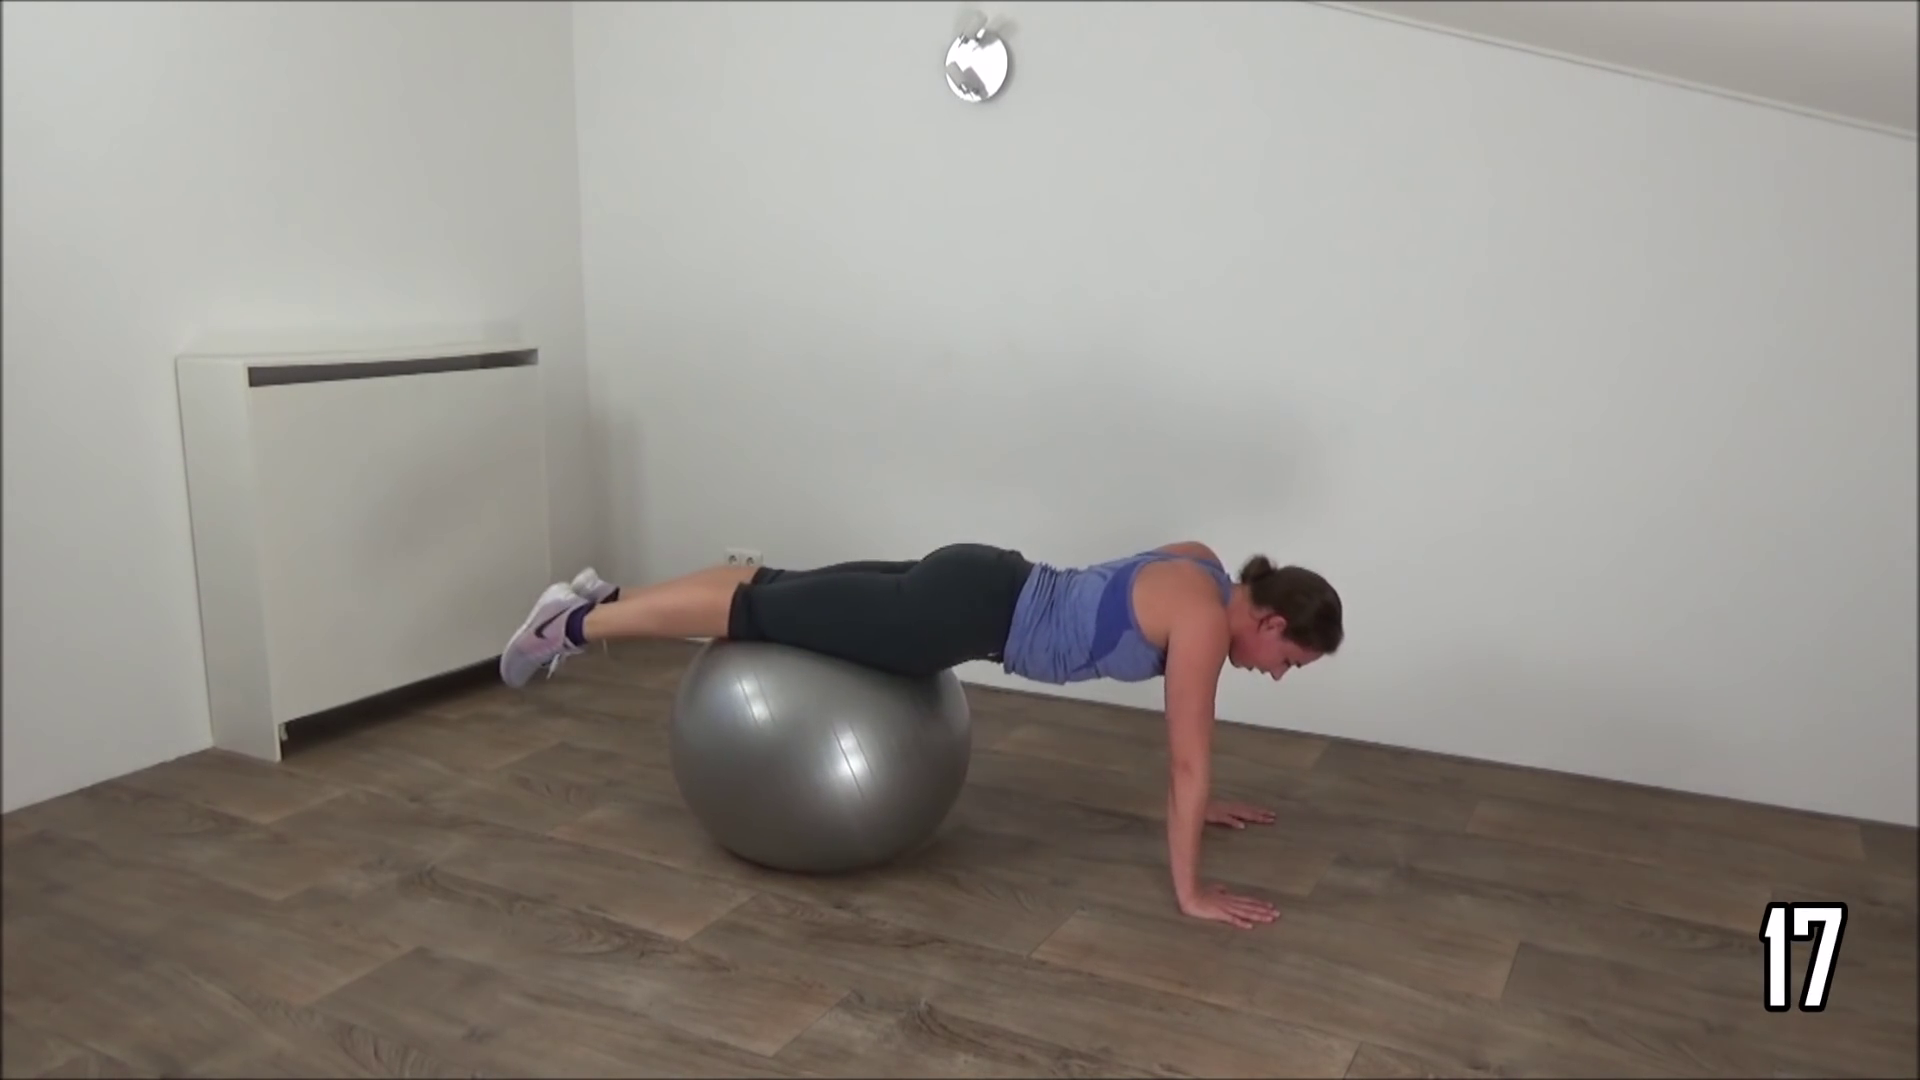yogaball: (654, 622, 984, 884)
